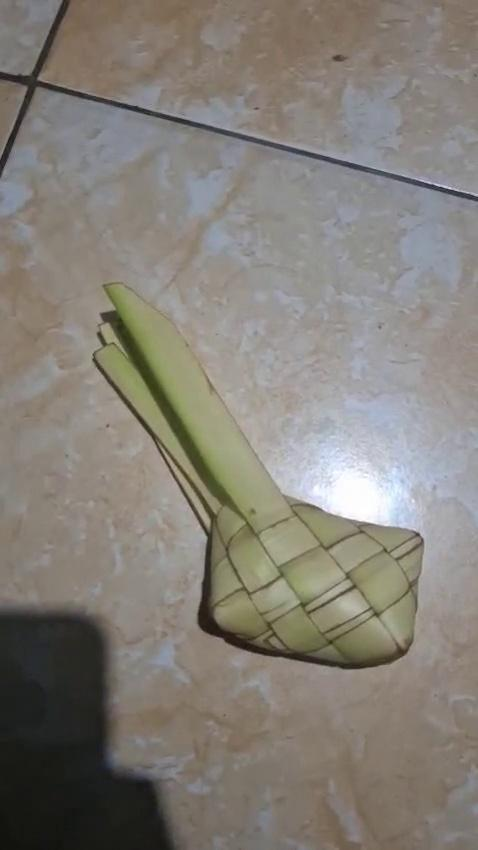Tipat Bantal: (93, 280, 424, 684)
